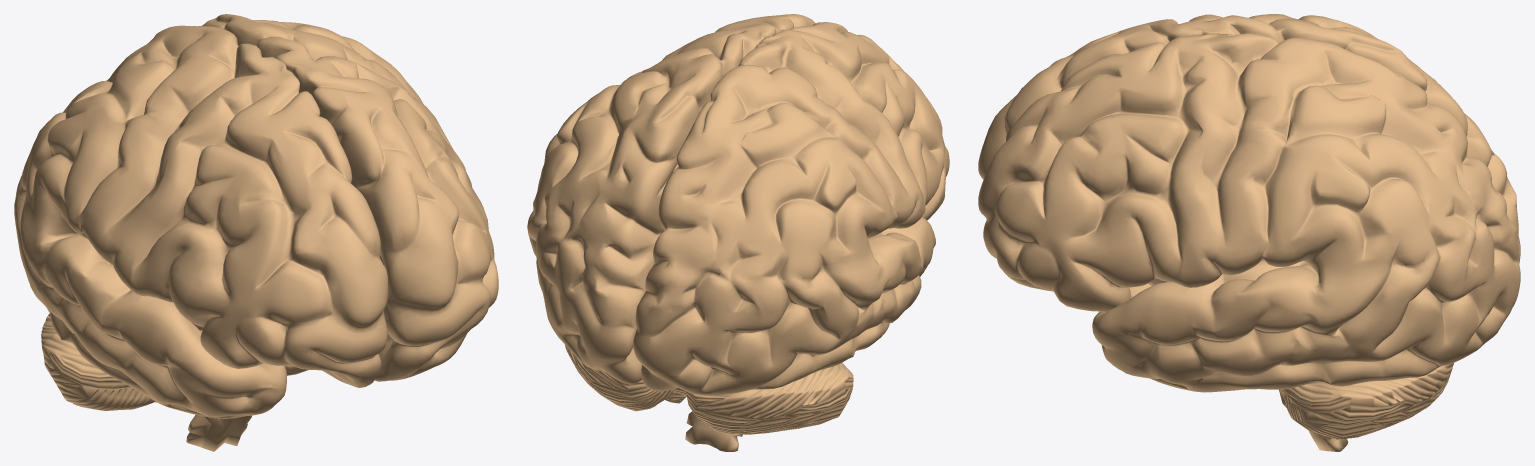
File: brain-transformed.glb
3 views of the same model, side by side, from view 1: azimuth 30°, elevation 25°; view 2: azimuth 150°, elevation 25°; view 3: azimuth 270°, elevation 25° (orthographic). The views are drawn at different scales.
Visible parts, largest first — view 1: brain; view 2: brain; view 3: brain.
Boxes of the visible parts, box(x1,y1,x2,y2) form: brain: box(14, 14, 498, 451); brain: box(527, 14, 949, 451); brain: box(978, 14, 1520, 451).
Size of the model in its own units: 1.06 by 1.12 by 1.32.
